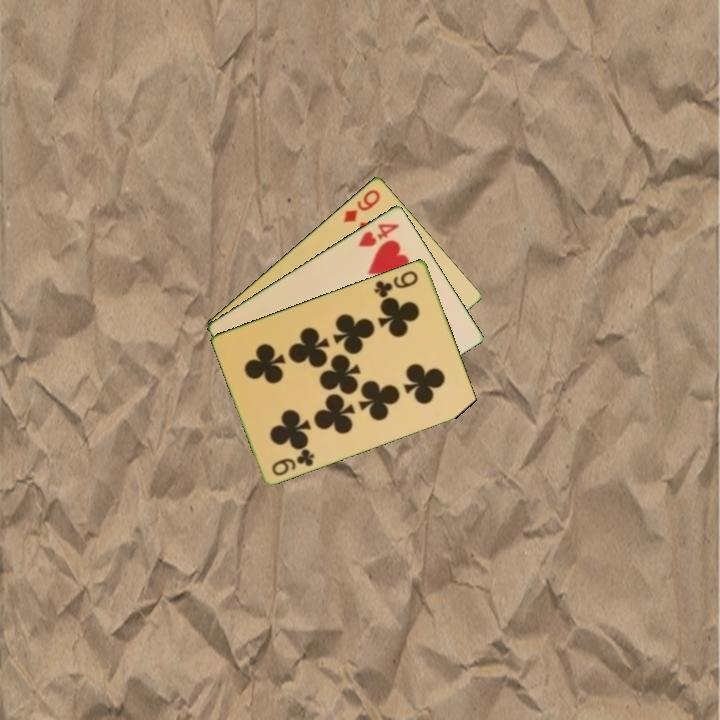4h: (355, 219, 402, 250)
9c: (268, 445, 318, 479), (371, 267, 421, 300)
9d: (339, 185, 383, 225)
